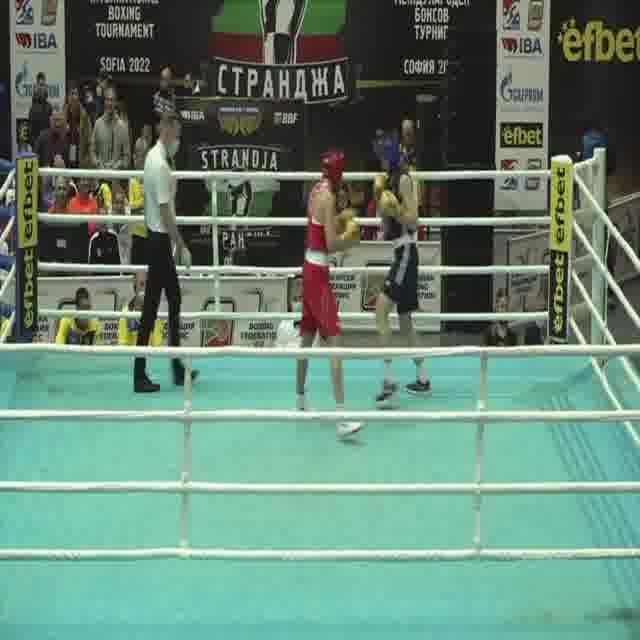blue-player: (366, 127, 433, 410)
red-player: (291, 142, 369, 444)
referee: (132, 108, 202, 394)
